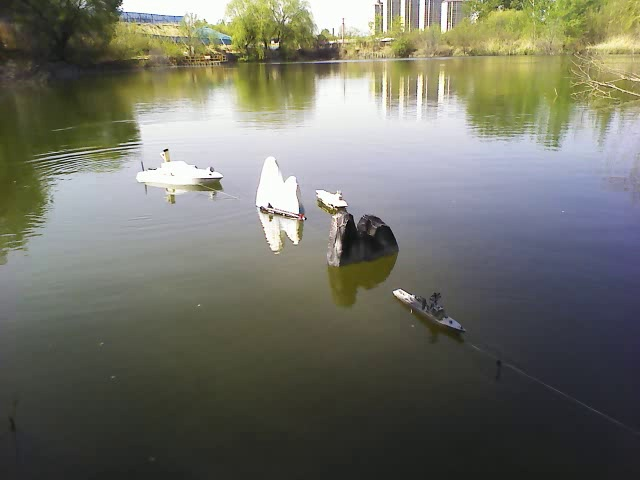aircraft_carrier: (315, 184, 348, 211)
boat: (132, 154, 229, 194)
iceberg: (254, 152, 305, 214)
rock: (329, 210, 406, 269)
warship: (387, 285, 470, 338)
